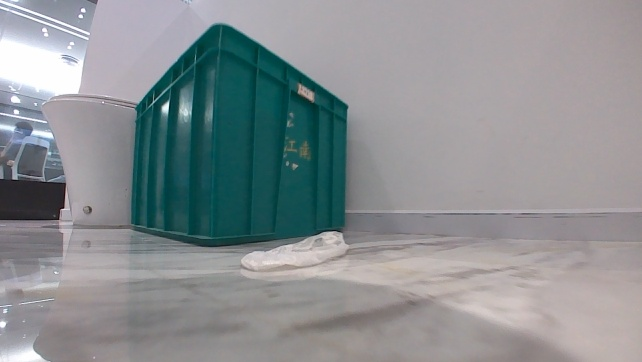socks: (239, 229, 350, 272)
toilet: (39, 91, 142, 229)
